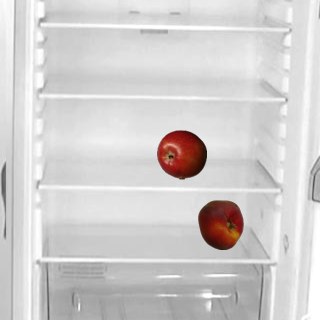Apple Braeburn: (156, 129, 206, 179)
Nectarine Flat: (195, 199, 245, 249)
